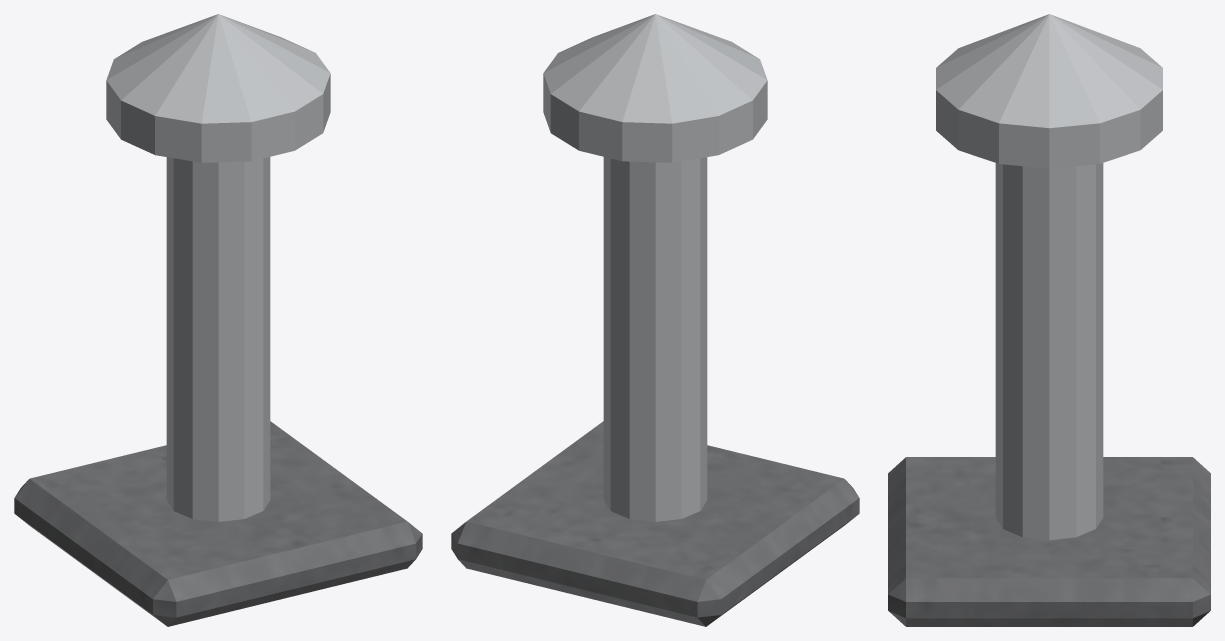
Rendered from vent.glb.
The picture shows the model from 3 angles, left to right: view 1: azimuth 30°, elevation 25°; view 2: azimuth 150°, elevation 25°; view 3: azimuth 270°, elevation 25°; orthographic projection. The views are drawn at different scales.
Visible parts, largest first — view 1: vent_steel, vent_membrane; view 2: vent_steel, vent_membrane; view 3: vent_steel, vent_membrane.
Boxes of the visible parts, x1,y1,x2,y2 form: vent_steel: [106, 14, 330, 521]; vent_membrane: [14, 421, 422, 626]; vent_steel: [543, 14, 767, 521]; vent_membrane: [451, 421, 859, 626]; vent_steel: [936, 14, 1162, 540]; vent_membrane: [888, 457, 1210, 626].
Bounding box in the file's own units: 0.36 × 0.68 × 0.36.
2 materials, 1 textured.
